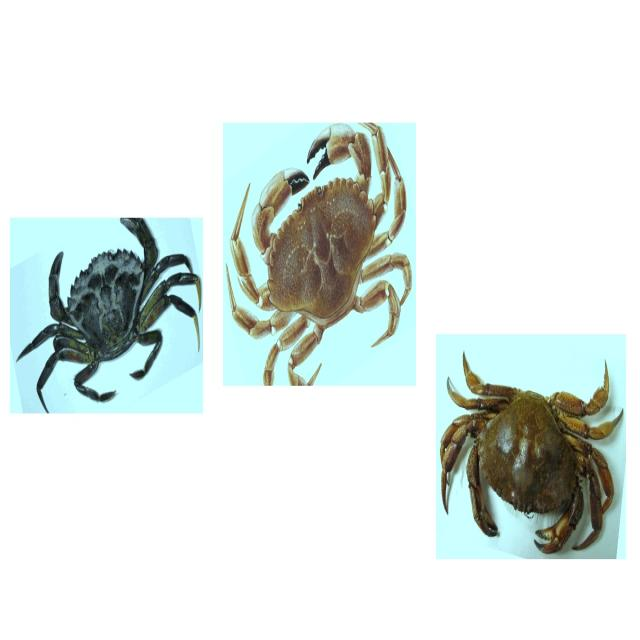egc: (8, 218, 202, 415)
jonah_crab: (223, 126, 418, 381)
rock_crab: (437, 350, 622, 552)
